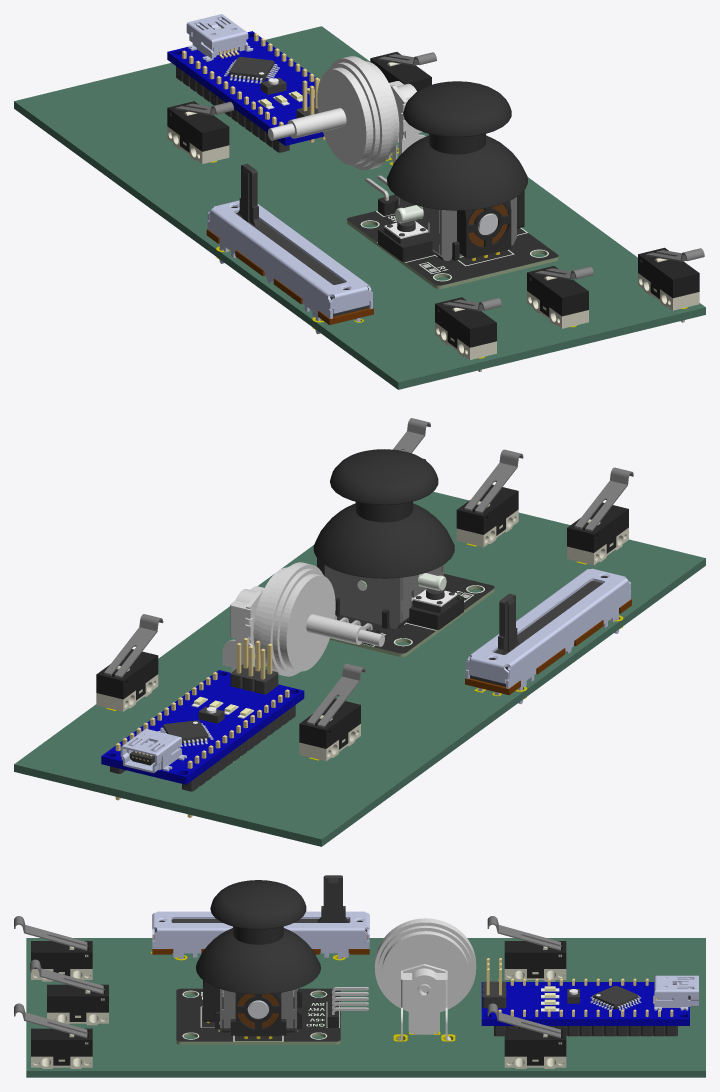
3 views of the same model, one above another, from view 1: azimuth 30°, elevation 25°; view 2: azimuth 150°, elevation 25°; view 3: azimuth 270°, elevation 25° (orthographic). The views are drawn at different scales.
Visible parts, largest first — view 1: =>[0:1:1:76], Thumb-Button, =>[0:1:1:72], =>[0:1:1:74], Top001 (×5), =>[0:1:1:48], PCB, Bottom001 (×4), Potentiometer_01, Case, Baseplate, Tactile-Switch; view 2: =>[0:1:1:76], =>[0:1:1:72], Thumb-Button, =>[0:1:1:74], =>[0:1:1:48], Top001 (×4), Lever_16U001 (×5), Case, Bottom001 (×4), PCB, =>0:1:1:24, Baseplate (+1 smaller); view 3: =>[0:1:1:76], =>[0:1:1:72], Thumb-Button, Top001 (×5), =>[0:1:1:74], =>[0:1:1:48], PCB, Lever_16U001 (×5), Bottom001 (×5), =>0:1:1:24, Potentiometer_02, Case (+4 smaller).
Part boxes in pixels (bbox=[...]): =>[0:1:1:76]: bbox=[14, 26, 705, 389]; Thumb-Button: bbox=[387, 81, 527, 210]; =>[0:1:1:72]: bbox=[167, 14, 325, 152]; =>[0:1:1:74]: bbox=[206, 163, 373, 334]; Top001 (×5): bbox=[167, 52, 699, 348]; =>[0:1:1:48]: bbox=[268, 56, 399, 170]; PCB: bbox=[347, 210, 558, 289]; Bottom001 (×4): bbox=[167, 126, 699, 359]; Potentiometer_01: bbox=[457, 201, 511, 260]; Case: bbox=[398, 197, 516, 260]; Baseplate: bbox=[378, 223, 459, 261]; Tactile-Switch: bbox=[384, 220, 428, 245]; =>[0:1:1:76]: bbox=[14, 491, 705, 846]; =>[0:1:1:72]: bbox=[101, 637, 304, 817]; Thumb-Button: bbox=[313, 449, 454, 578]; =>[0:1:1:74]: bbox=[465, 568, 631, 704]; =>[0:1:1:48]: bbox=[253, 562, 384, 676]; Top001 (×4): bbox=[96, 484, 628, 749]; Lever_16U001 (×5): bbox=[104, 418, 633, 727]; Case: bbox=[324, 564, 443, 628]; Bottom001 (×4): bbox=[96, 509, 628, 761]; PCB: bbox=[329, 573, 494, 656]; =>0:1:1:24: bbox=[222, 586, 264, 671]; Baseplate: bbox=[335, 591, 463, 629]; =>[0:1:1:76]: bbox=[26, 938, 705, 1077]; =>[0:1:1:72]: bbox=[481, 958, 698, 1036]; Thumb-Button: bbox=[196, 880, 320, 994]; Top001 (×5): bbox=[31, 941, 566, 1065]; =>[0:1:1:74]: bbox=[152, 875, 369, 959]; =>[0:1:1:48]: bbox=[374, 918, 476, 1012]; PCB: bbox=[176, 988, 340, 1044]; Lever_16U001 (×5): bbox=[14, 916, 560, 1044]; Bottom001 (×5): bbox=[31, 969, 566, 1068]; =>0:1:1:24: bbox=[397, 970, 451, 1040]; Potentiometer_02: bbox=[235, 992, 281, 1039]; Case: bbox=[220, 989, 296, 1031].
Size of the model in its own units: 0.0653 by 0.0358 by 0.1433.
